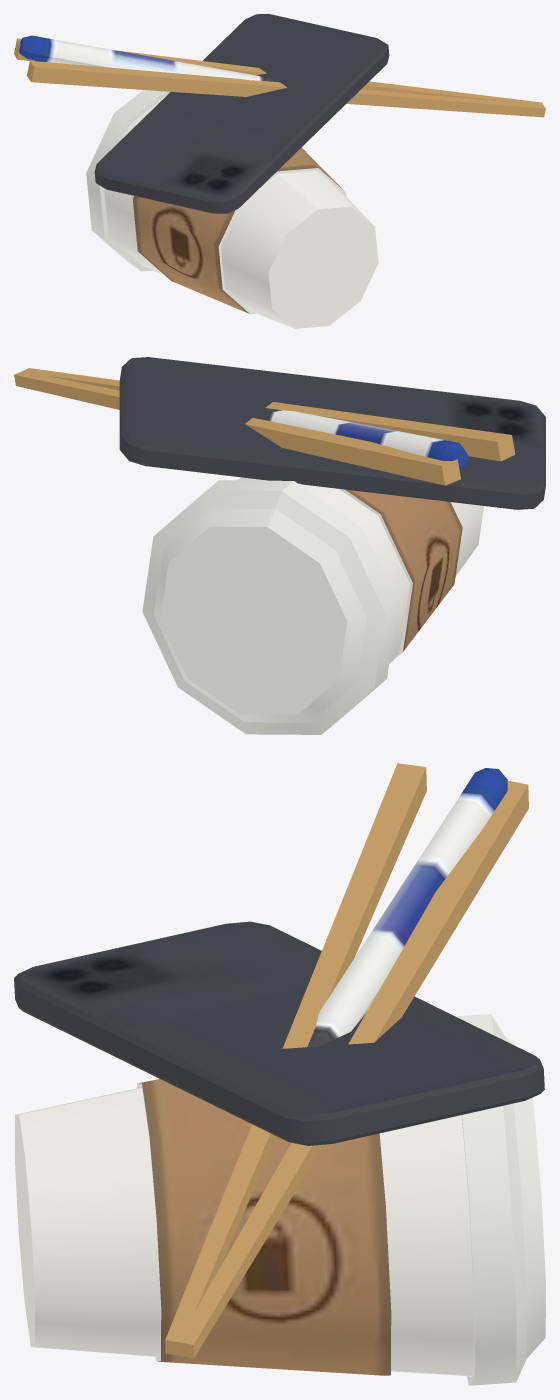
Rendered from hand_props.glb.
3 renders of one model, top to bottom at view 1: azimuth 30°, elevation 25°; view 2: azimuth 150°, elevation 25°; view 3: azimuth 270°, elevation 25°, orthographic. The views are drawn at different scales.
Visible parts, largest first — view 1: hand_cup, hand_phone, hand_chopsticks, hand_pen; view 2: hand_cup, hand_phone, hand_chopsticks, hand_pen; view 3: hand_cup, hand_phone, hand_chopsticks, hand_pen.
Boxes of the visible parts, <box> form: hand_cup: <box>86,90,378,328</box>; hand_phone: <box>94,14,389,213</box>; hand_chopsticks: <box>14,38,545,117</box>; hand_pen: <box>19,35,278,82</box>; hand_cup: <box>142,477,483,734</box>; hand_phone: <box>119,357,545,509</box>; hand_chopsticks: <box>14,368,515,485</box>; hand_pen: <box>260,408,468,468</box>; hand_cup: <box>15,1014,545,1385</box>; hand_phone: <box>14,921,544,1145</box>; hand_chopsticks: <box>165,763,528,1358</box>; hand_pen: <box>307,768,507,1047</box>.
Size of the model in its own units: 0.2267 by 0.1262 by 0.1282.
1 material, 1 textured.
